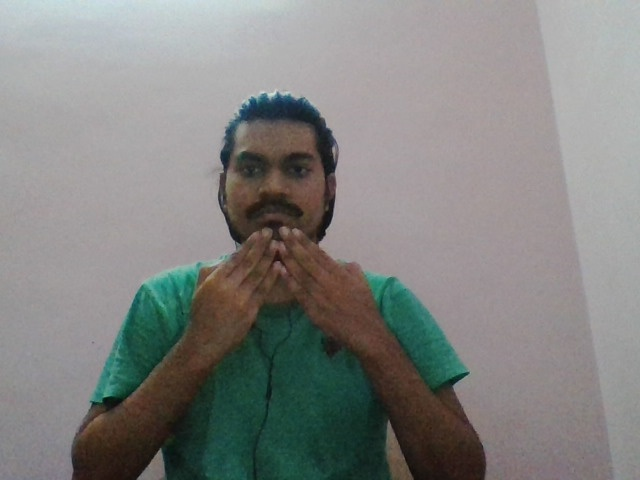ThankYou: (187, 224, 383, 353)
